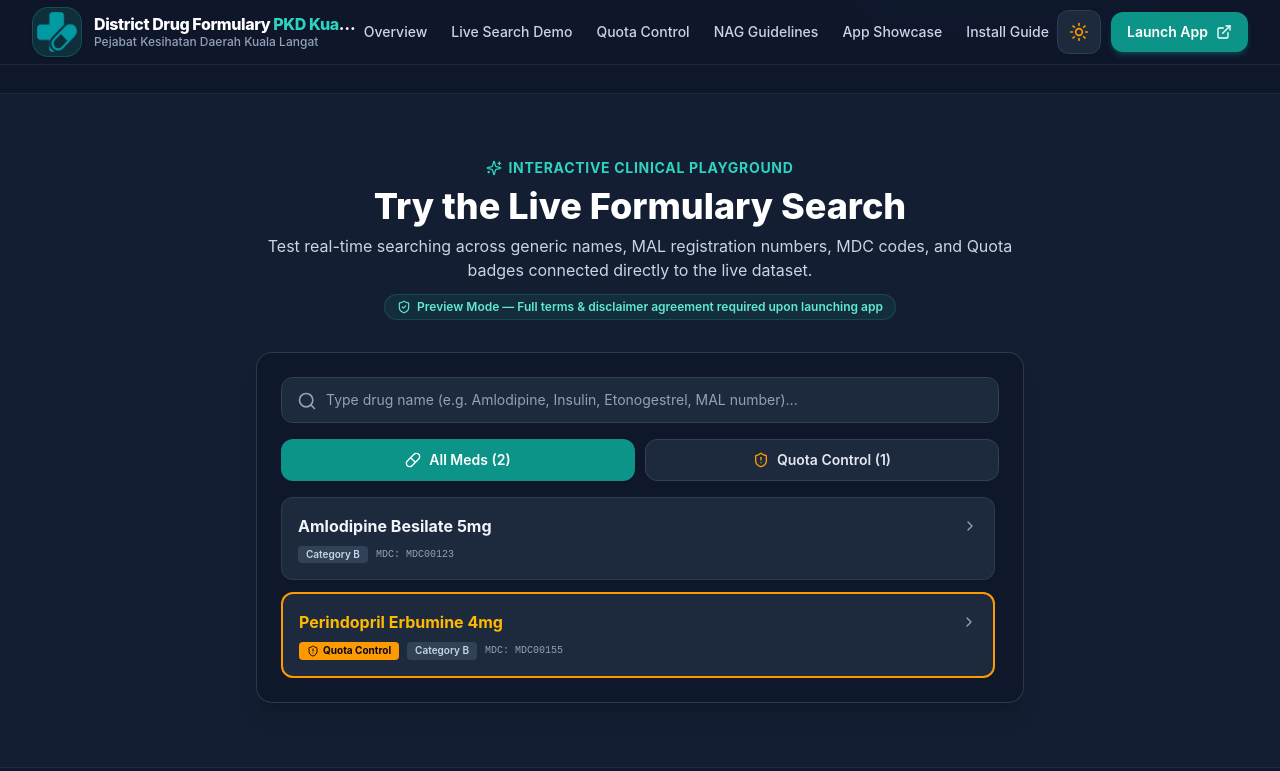
Test case: IntroPage component › clears search input when clear button is clicked
The width and height of the screenshot is (1280, 771).
(page scrolled)
Replace the text in the search field with placeholder "Type drug name" with "Amlodipine" at (640, 400), box x1=281 y1=377 x2=999 y2=423
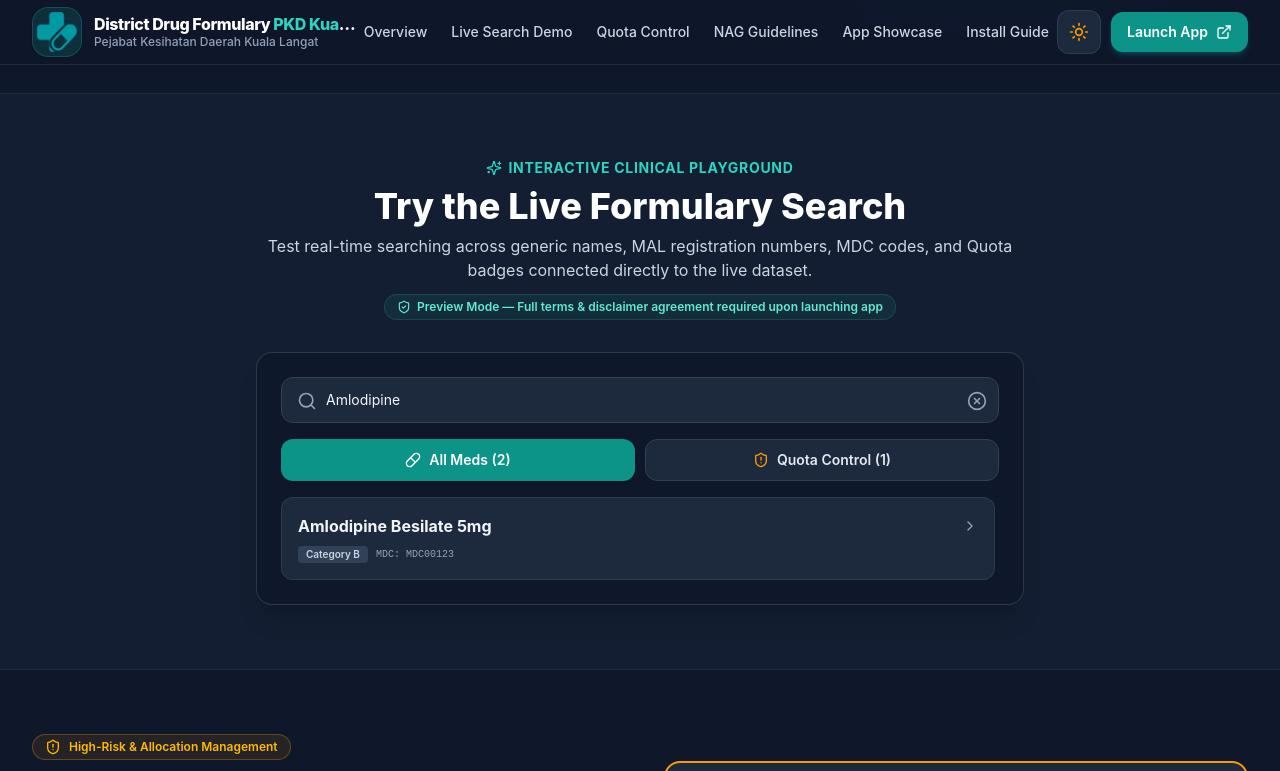
Click the button named "Clear search" at (977, 401), box x1=967 y1=391 x2=987 y2=411
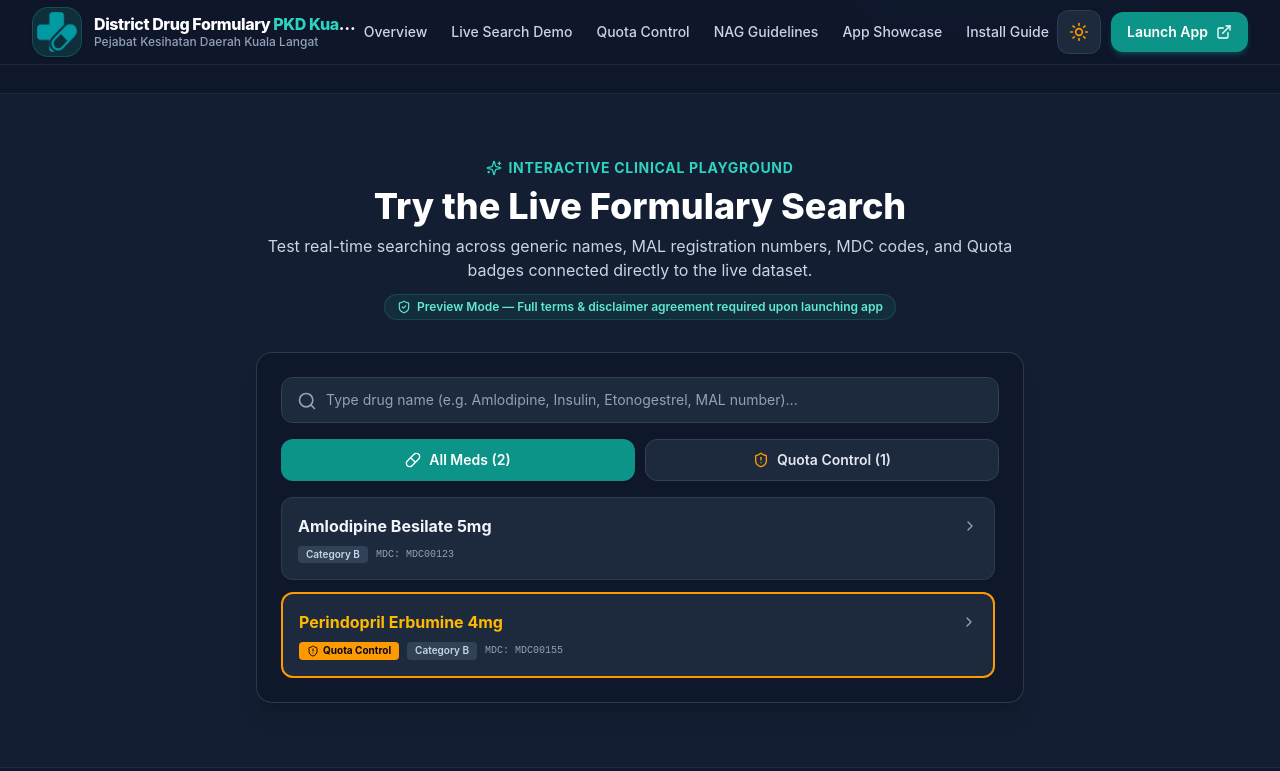
Now the search field with placeholder "Type drug name" is empty, box x1=281 y1=377 x2=999 y2=423
